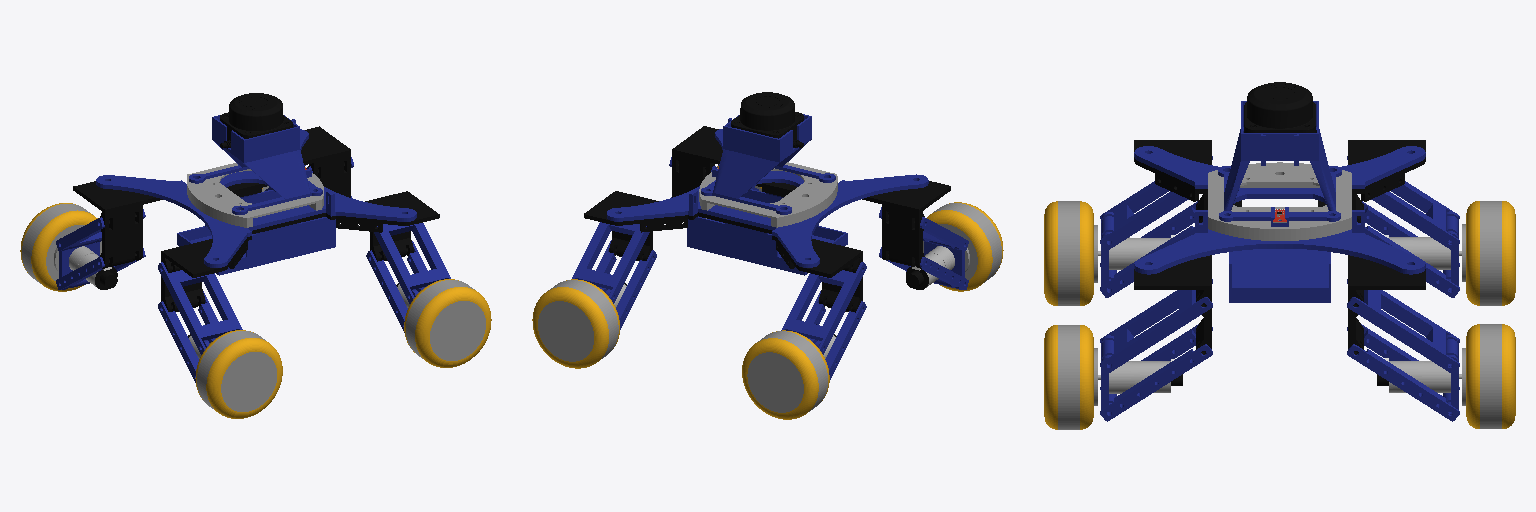
The robot description file, URDF, robot "Land_V2_Assembly":
<?xml version="1.0"?>
<robot name="Land_V2_Assembly">

  <!-- Materials -->
  <!-- <material name="Steel"> -->
    <!-- <color rgba="0.627 0.627 0.627 1.0"/> -->
  <!-- </material> -->

  <link name="base_link">
    <inertial>
      <origin xyz="0.042560 0.002718 -0.030887" rpy="0 0 0"/>
      <mass value="5.069664"/>
      <inertia ixx="4.272560e-02" ixy="6.739736e-05" ixz="-2.328210e-04"
               iyy="5.222259e-02" iyz="3.110826e-08" izz="7.744378e-02"/>
    </inertial>
    <visual>
      <origin xyz="0.000000 0.000000 0.000000" rpy="0.000000 -0.000000 -1.570796"/>
      <geometry>
        <mesh filename="package://land_v2_description/meshes/body/base_link.dae" scale="1 1 1"/>
      </geometry>
      <!-- <material name="Steel"/> -->
    </visual>
    <collision>
      <origin xyz="0.000000 0.000000 0.000000" rpy="0.000000 -0.000000 -1.570796"/>
      <geometry>
        <mesh filename="package://land_v2_description/meshes/body/base_link_collision.stl" scale="0.01 0.01 0.01"/>
      </geometry>
    </collision>
  </link>

  <link name="lidar_link">
    <inertial>
      <origin xyz="-0.000077 0.000000 -0.012638" rpy="0 0 0"/>
      <mass value="0.804716"/>
      <inertia ixx="2.751606e-04" ixy="-2.467141e-09" ixz="-8.277243e-07"
               iyy="2.771977e-04" iyz="-3.475674e-10" izz="3.414676e-04"/>
    </inertial>
    <visual>
      <origin xyz="0.000000 0.000000 0.000000" rpy="0.000000 0.000000 0.000000"/>
      <geometry>
        <mesh filename="package://land_v2_description/meshes/Land_V2_Assembly/lidar_link.dae" scale="1 1 1"/>
      </geometry>
      <!-- <material name="Steel"/> -->
    </visual>
    <collision>
      <origin xyz="0.000000 0.000000 0.000000" rpy="0.000000 0.000000 0.000000"/>
      <geometry>
        <mesh filename="package://land_v2_description/meshes/Land_V2_Assembly/lidar_link_collision.stl" scale="0.01 0.01 0.01"/>
      </geometry>
    </collision>
  </link>

  <link name="imu_link">
    <inertial>
      <origin xyz="0.001770 0.000077 -0.001017" rpy="0 0 0"/>
      <mass value="0.001837"/>
      <inertia ixx="1.000000e-06" ixy="3.145141e-11" ixz="2.825579e-10"
               iyy="1.000000e-06" iyz="4.860150e-12" izz="1.000000e-06"/>
    </inertial>
    <visual>
      <origin xyz="0.000000 0.000000 0.000000" rpy="0.000000 0.000000 0.000000"/>
      <geometry>
        <mesh filename="package://land_v2_description/meshes/Land_V2_Assembly/imu_link.dae" scale="1 1 1"/>
      </geometry>
      <!-- <material name="Steel"/> -->
    </visual>
    <collision>
      <origin xyz="0.000000 0.000000 0.000000" rpy="0.000000 0.000000 0.000000"/>
      <geometry>
        <mesh filename="package://land_v2_description/meshes/Land_V2_Assembly/imu_link_collision.stl" scale="0.01 0.01 0.01"/>
      </geometry>
    </collision>
  </link>

  <link name="camera_link">
    <inertial>
      <origin xyz="-0.006421 -0.000039 0.000357" rpy="0 0 0"/>
      <mass value="0.008517"/>
      <inertia ixx="1.000000e-06" ixy="-1.073114e-10" ixz="-1.592692e-08"
               iyy="1.000000e-06" iyz="1.998784e-09" izz="1.000000e-06"/>
    </inertial>
    <visual>
      <origin xyz="0.000000 0.000000 0.000000" rpy="0.000000 0.000000 0.000000"/>
      <geometry>
        <mesh filename="package://land_v2_description/meshes/Shapes/camera_link.dae" scale="1 1 1"/>
      </geometry>
      <!-- <material name="Steel"/> -->
    </visual>
    <collision>
      <origin xyz="0.000000 0.000000 0.000000" rpy="0.000000 0.000000 0.000000"/>
      <geometry>
        <mesh filename="package://land_v2_description/meshes/Shapes/camera_link_collision.stl" scale="0.01 0.01 0.01"/>
      </geometry>
    </collision>
  </link>

  <link name="front_right_wheel">
    <inertial>
      <origin xyz="0.000000 -0.000000 0.020565" rpy="0 0 0"/>
      <mass value="1.492323"/>
      <inertia ixx="7.236931e-04" ixy="-2.045480e-11" ixz="0.000000e+00"
               iyy="7.236928e-04" iyz="-1.892112e-09" izz="1.090287e-03"/>
    </inertial>
    <visual>
      <origin xyz="0.000000 0.000000 0.040400" rpy="1.064701 1.570796 0.000000"/>
      <geometry>
        <mesh filename="package://land_v2_description/meshes/Mecanum_Wheel_Assembly/front_right_wheel.dae" scale="1 1 1"/>
      </geometry>
      <!-- <material name="Steel"/> -->
    </visual>
    <collision>
      <origin xyz="0.000000 0.000000 0.040400" rpy="1.064701 1.570796 0.000000"/>
      <geometry>
        <mesh filename="package://land_v2_description/meshes/Mecanum_Wheel_Assembly/front_right_wheel_collision.stl" scale="0.01 0.01 0.01"/>
      </geometry>
    </collision>
  </link>

  <link name="back_right_wheel">
    <inertial>
      <origin xyz="0.000000 -0.000000 0.020565" rpy="0 0 0"/>
      <mass value="1.492323"/>
      <inertia ixx="7.236931e-04" ixy="-2.045480e-11" ixz="0.000000e+00"
               iyy="7.236928e-04" iyz="-1.892112e-09" izz="1.090287e-03"/>
    </inertial>
    <visual>
      <origin xyz="0.000000 0.000000 0.040400" rpy="1.064701 1.570796 0.000000"/>
      <geometry>
        <mesh filename="package://land_v2_description/meshes/Mecanum_Wheel_Assembly/back_right_wheel.dae" scale="1 1 1"/>
      </geometry>
      <!-- <material name="Steel"/> -->
    </visual>
    <collision>
      <origin xyz="0.000000 0.000000 0.040400" rpy="1.064701 1.570796 0.000000"/>
      <geometry>
        <mesh filename="package://land_v2_description/meshes/Mecanum_Wheel_Assembly/back_right_wheel_collision.stl" scale="0.01 0.01 0.01"/>
      </geometry>
    </collision>
  </link>

  <link name="back_left_wheel">
    <inertial>
      <origin xyz="-0.000000 -0.000000 0.020565" rpy="0 0 0"/>
      <mass value="1.492323"/>
      <inertia ixx="7.236928e-04" ixy="2.045480e-11" ixz="-1.892112e-09"
               iyy="7.236931e-04" iyz="0.000000e+00" izz="1.090287e-03"/>
    </inertial>
    <visual>
      <origin xyz="0.000000 0.000000 0.040400" rpy="2.635497 1.570796 0.000000"/>
      <geometry>
        <mesh filename="package://land_v2_description/meshes/Mecanum_Wheel_Assembly/back_left_wheel.dae" scale="1 1 1"/>
      </geometry>
      <!-- <material name="Steel"/> -->
    </visual>
    <collision>
      <origin xyz="0.000000 0.000000 0.040400" rpy="2.635497 1.570796 0.000000"/>
      <geometry>
        <mesh filename="package://land_v2_description/meshes/Mecanum_Wheel_Assembly/back_left_wheel_collision.stl" scale="0.01 0.01 0.01"/>
      </geometry>
    </collision>
  </link>

  <link name="front_left_wheel">
    <inertial>
      <origin xyz="-0.000000 -0.000000 0.020565" rpy="0 0 0"/>
      <mass value="1.492323"/>
      <inertia ixx="7.236928e-04" ixy="2.045479e-11" ixz="-1.892111e-09"
               iyy="7.236931e-04" iyz="0.000000e+00" izz="1.090287e-03"/>
    </inertial>
    <visual>
      <origin xyz="0.000000 0.000000 0.040400" rpy="2.635497 1.570796 0.000000"/>
      <geometry>
        <mesh filename="package://land_v2_description/meshes/Mecanum_Wheel_Assembly/front_left_wheel.dae" scale="1 1 1"/>
      </geometry>
      <!-- <material name="Steel"/> -->
    </visual>
    <collision>
      <origin xyz="0.000000 0.000000 0.040400" rpy="2.635497 1.570796 0.000000"/>
      <geometry>
        <mesh filename="package://land_v2_description/meshes/Mecanum_Wheel_Assembly/front_left_wheel_collision.stl" scale="0.01 0.01 0.01"/>
      </geometry>
    </collision>
  </link>

  <joint name="lidar_joint" type="fixed">
    <parent link="base_link"/>
    <child link="lidar_link"/>
    <origin xyz="0.041800 0.002765 0.094100" rpy="-0.000000 0.000000 0.000000"/>
  </joint>

  <joint name="imu_joint" type="fixed">
    <parent link="base_link"/>
    <child link="imu_link"/>
    <origin xyz="0.083100 0.002515 0.022540" rpy="-0.000000 0.000000 0.000000"/>
  </joint>

  <joint name="camera_joint" type="fixed">
    <parent link="base_link"/>
    <child link="camera_link"/>
    <origin xyz="0.081000 0.002465 0.064692" rpy="-0.000000 0.000000 0.000000"/>
  </joint>

  <joint name="front_right_wheel_joint" type="continuous">
    <parent link="base_link"/>
    <child link="front_right_wheel"/>
    <origin xyz="0.153244 -0.136291 -0.082475" rpy="1.570796 0.000000 0.000000"/>
    <axis xyz="0.000000 0.000000 1.000000"/>
    <limit effort="100.0" velocity="1.00"/>
  </joint>

  <joint name="back_right_wheel_joint" type="continuous">
    <parent link="base_link"/>
    <child link="back_right_wheel"/>
    <origin xyz="-0.069244 -0.136291 -0.082475" rpy="1.570796 0.000000 0.000000"/>
    <axis xyz="0.000000 0.000000 1.000000"/>
    <limit effort="100.0" velocity="1.00"/>
  </joint>

  <joint name="back_left_wheel_joint" type="continuous">
    <parent link="base_link"/>
    <child link="back_left_wheel"/>
    <origin xyz="-0.070244 0.141721 -0.082475" rpy="-1.570796 0.000000 0.000000"/>
    <axis xyz="0.000000 0.000000 1.000000"/>
    <limit effort="100.0" velocity="1.00"/>
  </joint>

  <joint name="front_left_wheel_joint" type="continuous">
    <parent link="base_link"/>
    <child link="front_left_wheel"/>
    <origin xyz="0.152244 0.141721 -0.082475" rpy="-1.570796 0.000000 0.000000"/>
    <axis xyz="0.000000 0.000000 1.000000"/>
    <limit effort="100.0" velocity="1.00"/>
  </joint>

  <!-- ROS 2 control: generated generic system -->
  <!-- replace with old controls for land v1. -->
  <ros2_control name="land_v2_system" type="system">
    <hardware>
      <plugin>mock_components/GenericSystem</plugin>
      <param name="cmd_topic">sim/land_v2_system/cmd</param>
      <param name="state_topic">sim/land_v2_system/state</param>
    </hardware>

    <joint name="back_left_wheel_joint">
      <command_interface name="position"/>
      <command_interface name="velocity"/>
      <state_interface name="position">
        <param name="initial_value">0.0</param>
      </state_interface>
      <state_interface name="velocity"/>
      <state_interface name="effort"/>
    </joint>
    <joint name="back_right_wheel_joint">
      <command_interface name="position"/>
      <command_interface name="velocity"/>
      <state_interface name="position">
        <param name="initial_value">0.0</param>
      </state_interface>
      <state_interface name="velocity"/>
      <state_interface name="effort"/>
    </joint>
    <joint name="front_left_wheel_joint">
      <command_interface name="position"/>
      <command_interface name="velocity"/>
      <state_interface name="position">
        <param name="initial_value">0.0</param>
      </state_interface>
      <state_interface name="velocity"/>
      <state_interface name="effort"/>
    </joint>
    <joint name="front_right_wheel_joint">
      <command_interface name="position"/>
      <command_interface name="velocity"/>
      <state_interface name="position">
        <param name="initial_value">0.0</param>
      </state_interface>
      <state_interface name="velocity"/>
      <state_interface name="effort"/>
    </joint>
  </ros2_control>

</robot>

--- What the picture shows (computed from the rendered views, not written in the file) ---
3 views of the same robot in one strip: view 1: azimuth 30°, elevation 25°; view 2: azimuth 150°, elevation 25°; view 3: azimuth 270°, elevation 25° (orthographic).
Robot: Land_V2_Assembly — 8 links, 7 joints (4 continuous, 3 fixed); root link base_link; default pose: every joint at zero.
Visible links, largest first — view 1: base_link, front_right_wheel, back_right_wheel, back_left_wheel, lidar_link; view 2: base_link, back_left_wheel, front_left_wheel, back_right_wheel, lidar_link; view 3: base_link, back_right_wheel, front_left_wheel, front_right_wheel, back_left_wheel, lidar_link.
Link boxes in pixels (x1=…): base_link: x1=56, y1=115, x2=450, y2=382; front_right_wheel: x1=404, y1=279, x2=491, y2=367; back_right_wheel: x1=195, y1=330, x2=282, y2=418; back_left_wheel: x1=20, y1=203, x2=101, y2=291; lidar_link: x1=220, y1=93, x2=292, y2=148; base_link: x1=572, y1=114, x2=968, y2=379; back_left_wheel: x1=742, y1=330, x2=829, y2=419; front_left_wheel: x1=532, y1=279, x2=619, y2=368; back_right_wheel: x1=923, y1=202, x2=1003, y2=291; lidar_link: x1=731, y1=92, x2=803, y2=147; base_link: x1=1098, y1=101, x2=1461, y2=421; back_right_wheel: x1=1044, y1=201, x2=1097, y2=305; front_left_wheel: x1=1462, y1=324, x2=1515, y2=428; front_right_wheel: x1=1044, y1=325, x2=1097, y2=429; back_left_wheel: x1=1462, y1=201, x2=1515, y2=305; lidar_link: x1=1244, y1=82, x2=1316, y2=132.
Size in the robot's own frame: 0.3035 by 0.3588 by 0.2268 metres.
7 mesh visuals loaded from 8 distinct referenced files (7 Collada DAE); not drawn: 1 (reference not matched to a file when rendering).
